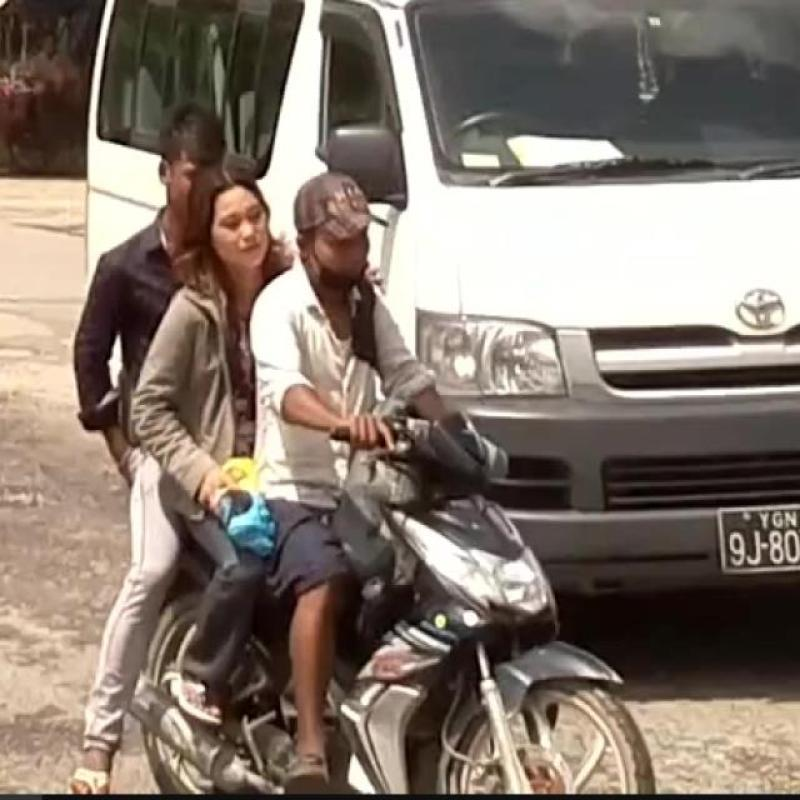nohelmet: (294, 168, 404, 284), (212, 176, 288, 282), (150, 94, 230, 186)
